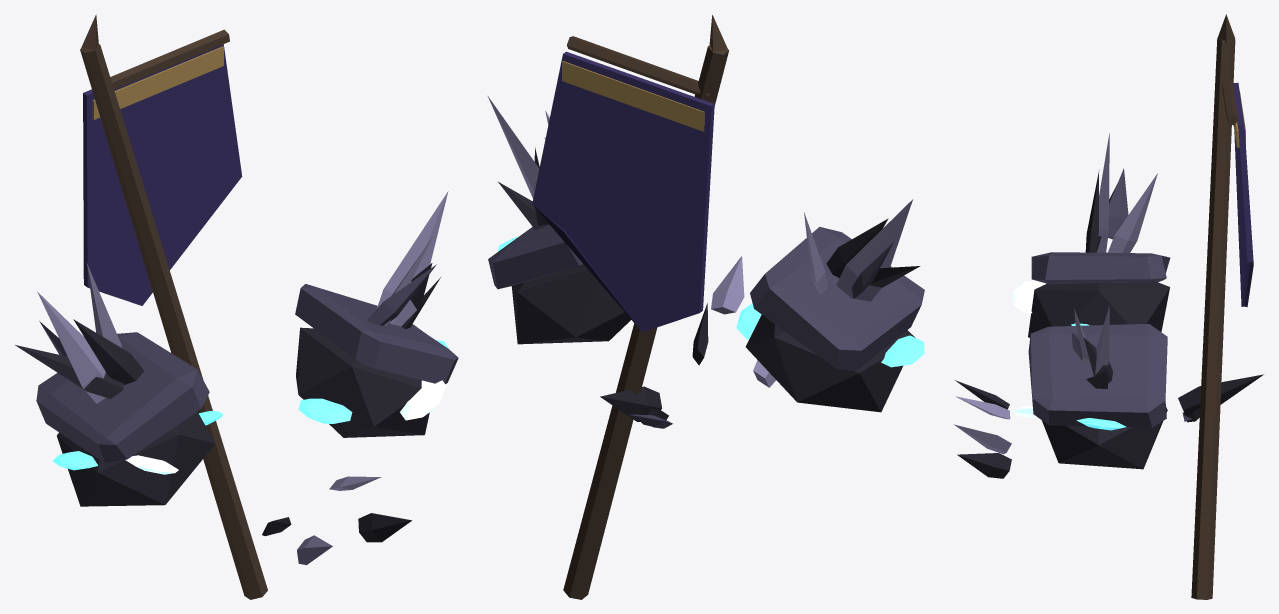
File: glassbound_mantle.glb
3 views of the same model, side by side, from view 1: azimuth 30°, elevation 25°; view 2: azimuth 150°, elevation 25°; view 3: azimuth 270°, elevation 25° (orthographic). The views are drawn at different scales.
Visible parts, largest first — view 1: glassbound_mantle; view 2: glassbound_mantle; view 3: glassbound_mantle.
Part boxes in pixels (left/top/right/bottom): glassbound_mantle: left=15, top=14, right=458, bottom=599; glassbound_mantle: left=487, top=15, right=924, bottom=599; glassbound_mantle: left=954, top=14, right=1263, bottom=599.
Bounding box in the file's own units: 1.4 × 1.91 × 1.02.
